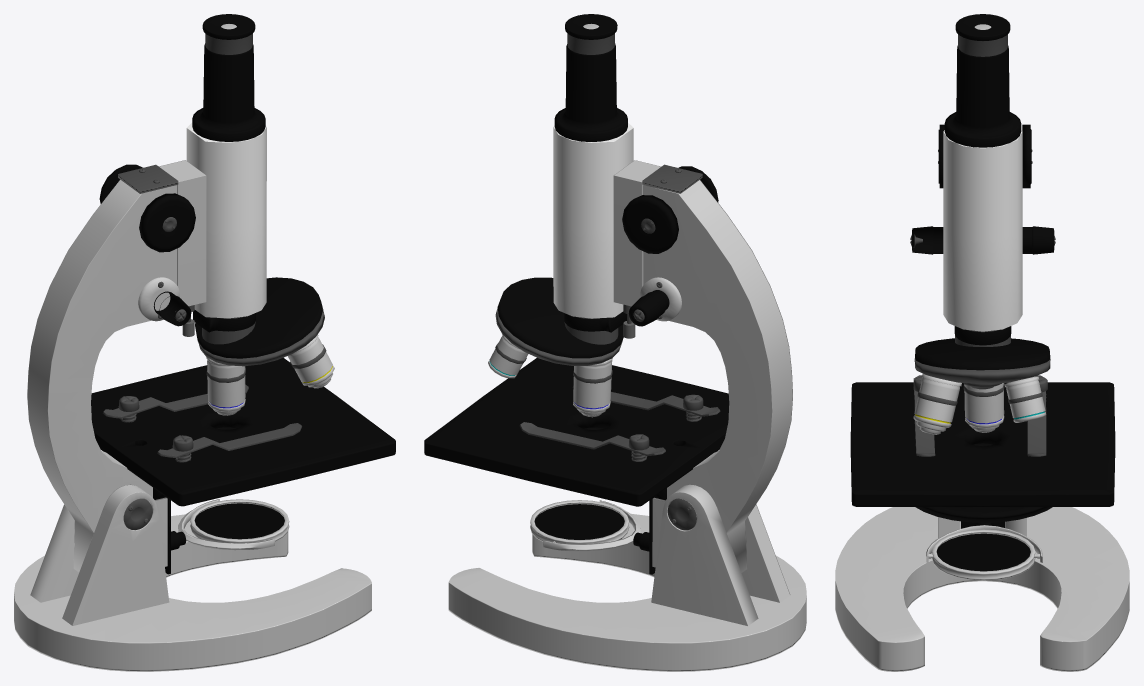
File: model_ios.dae
3 renders of one model, left to right at view 1: azimuth 30°, elevation 25°; view 2: azimuth 150°, elevation 25°; view 3: azimuth 270°, elevation 25°, orthographic. The views are drawn at different scales.
Visible parts, largest first — view 1: jingbi_observe, zaiwutai_observe, pasted__jingzuo_observe, jingtong_observe, jingzhu_observe, jingtong1_observe, polySurface88, mirror, polySurface45, cuzhunjiaoluoxuan_observe, wujing100_observe, mujing_observe (+11 smaller); view 2: jingbi_observe, zaiwutai_observe, pasted__jingzuo_observe, jingtong_observe, jingzhu_observe, jingtong1_observe, polySurface88, mirror, polySurface45, cuzhunjiaoluoxuan_observe, wujing100_observe, mujing_observe (+11 smaller); view 3: zaiwutai_observe, pasted__jingzuo_observe, jingtong_observe, jingtong1_observe, mirror, polySurface88, wujing10_observe, mujing_observe, wujingzhuanhuanqi, wujing100_observe, wujing40_observe, polySurface133 (+8 smaller).
Part boxes in pixels (bbox=[...]): jingbi_observe: bbox=[27, 179, 176, 572]; zaiwutai_observe: bbox=[91, 357, 395, 506]; pasted__jingzuo_observe: bbox=[14, 514, 371, 671]; jingtong_observe: bbox=[186, 122, 266, 318]; jingzhu_observe: bbox=[30, 484, 169, 625]; jingtong1_observe: bbox=[192, 43, 265, 141]; polySurface88: bbox=[195, 277, 322, 358]; mirror: bbox=[190, 499, 289, 542]; polySurface45: bbox=[159, 160, 206, 306]; cuzhunjiaoluoxuan_observe: bbox=[99, 164, 195, 252]; wujing100_observe: bbox=[206, 357, 245, 415]; mujing_observe: bbox=[202, 14, 255, 54]; jingbi_observe: bbox=[643, 180, 792, 572]; zaiwutai_observe: bbox=[424, 358, 729, 506]; pasted__jingzuo_observe: bbox=[448, 513, 806, 671]; jingtong_observe: bbox=[553, 123, 633, 318]; jingzhu_observe: bbox=[651, 484, 790, 625]; jingtong1_observe: bbox=[554, 43, 627, 141]; polySurface88: bbox=[497, 277, 623, 358]; mirror: bbox=[530, 500, 629, 544]; polySurface45: bbox=[613, 160, 661, 306]; cuzhunjiaoluoxuan_observe: bbox=[622, 166, 718, 253]; wujing100_observe: bbox=[573, 358, 612, 417]; mujing_observe: bbox=[565, 14, 617, 54]; zaiwutai_observe: bbox=[850, 382, 1115, 507]; pasted__jingzuo_observe: bbox=[835, 507, 1129, 671]; jingtong_observe: bbox=[943, 130, 1022, 331]; jingtong1_observe: bbox=[944, 45, 1021, 147]; mirror: bbox=[932, 529, 1035, 580]; polySurface88: bbox=[915, 338, 1050, 370]; wujing10_observe: bbox=[913, 374, 961, 434]; mujing_observe: bbox=[955, 14, 1010, 56]; wujingzhuanhuanqi: bbox=[914, 358, 1050, 383]; wujing100_observe: bbox=[963, 383, 1004, 432]; wujing40_observe: bbox=[1004, 376, 1046, 422]; polySurface133: bbox=[915, 507, 1052, 522].
Bounding box in the file's own units: 14.14 × 24.7 × 11.02.
